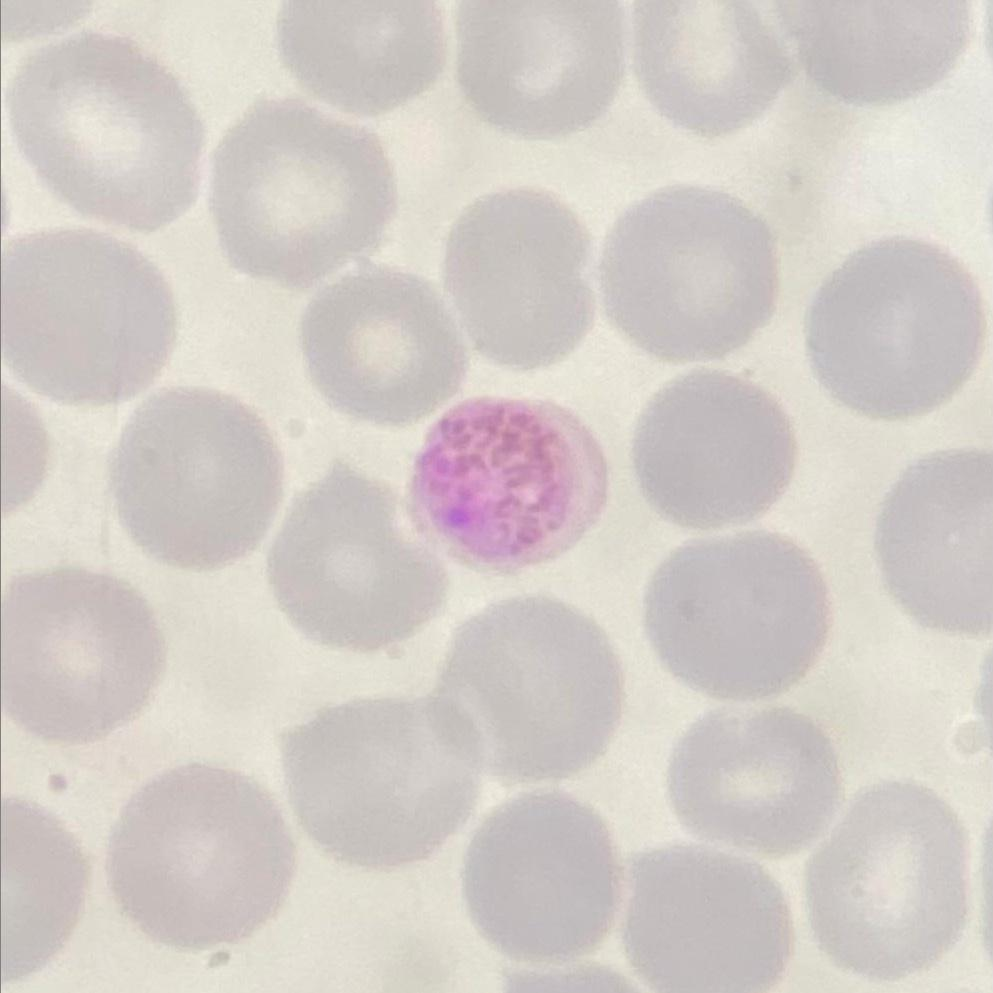Infected: (409, 393, 605, 567)
Uninfected: (11, 32, 207, 229), (211, 101, 399, 284), (808, 235, 988, 423), (270, 463, 447, 652), (438, 600, 623, 778), (286, 697, 482, 864), (110, 764, 289, 945), (603, 187, 783, 361), (4, 227, 178, 407), (644, 534, 829, 699), (114, 389, 283, 568), (807, 786, 961, 975), (440, 188, 600, 367), (5, 567, 163, 742), (459, 791, 621, 959), (631, 372, 798, 529), (668, 708, 840, 853), (299, 271, 463, 423), (622, 847, 792, 989), (457, 1, 626, 135), (633, 0, 796, 133)
